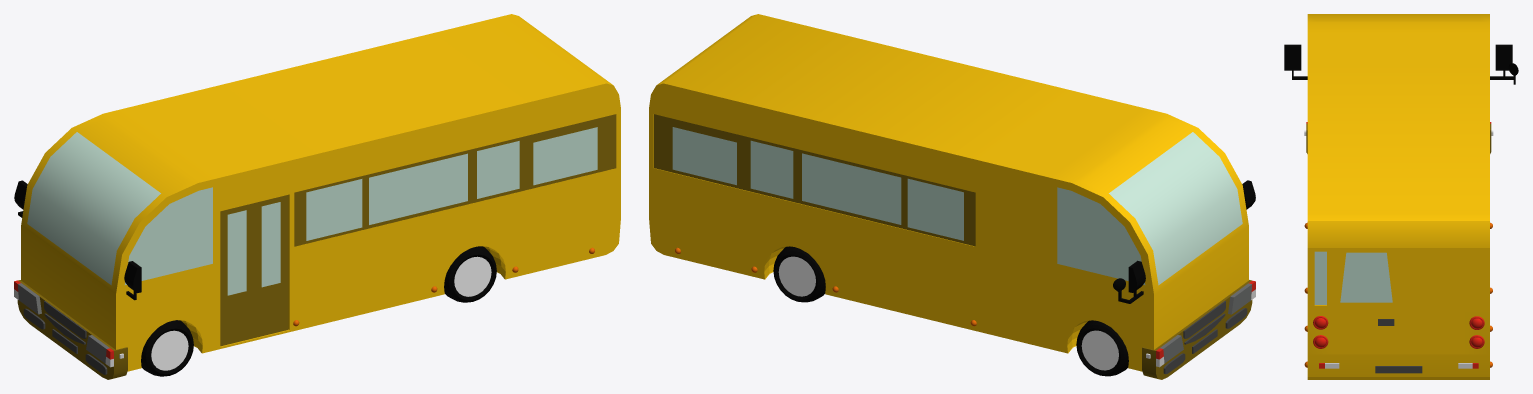
Rendered from Bus.fbx.
3 views of the same model, side by side, from view 1: azimuth 30°, elevation 25°; view 2: azimuth 150°, elevation 25°; view 3: azimuth 270°, elevation 25° (orthographic). The views are drawn at different scales.
Parts seen in each view (by area): view 1: Bus, Cube.002, Door, Torus, Torus.001, Cube.006, Cube.012, Cube.018, Cube.011; view 2: Bus, Cube.004, Torus, Torus.001, Cube.006, Cube.019, Cube.011, Cube.012; view 3: Bus, Cube.005, Cube.019, Cube.018, Cube.013.
Boxes of the visible parts, <box> form: Bus: <box>21,14,620,371</box>; Cube.002: <box>294,114,616,246</box>; Door: <box>220,195,288,346</box>; Torus: <box>141,320,193,376</box>; Torus.001: <box>444,246,496,302</box>; Cube.006: <box>17,280,127,379</box>; Cube.012: <box>14,280,41,314</box>; Cube.018: <box>124,261,141,300</box>; Cube.011: <box>86,335,113,367</box>; Bus: <box>649,14,1248,371</box>; Cube.004: <box>654,114,975,246</box>; Torus: <box>1076,320,1128,376</box>; Torus.001: <box>773,246,825,302</box>; Cube.006: <box>1142,280,1252,379</box>; Cube.019: <box>1113,260,1145,303</box>; Cube.011: <box>1228,280,1255,314</box>; Cube.012: <box>1156,335,1183,367</box>; Bus: <box>1307,14,1489,379</box>; Cube.005: <box>1334,248,1463,354</box>; Cube.019: <box>1490,44,1518,84</box>; Cube.018: <box>1284,44,1307,79</box>; Cube.013: <box>1375,366,1422,373</box>.
Size of the model in its own units: 1051 by 373 by 431.
